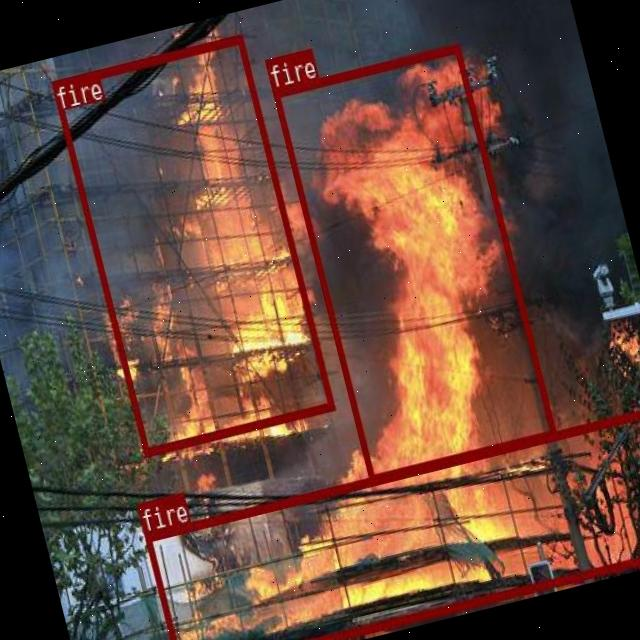fire: (271, 43, 556, 483), (50, 32, 334, 454), (143, 408, 640, 640)
